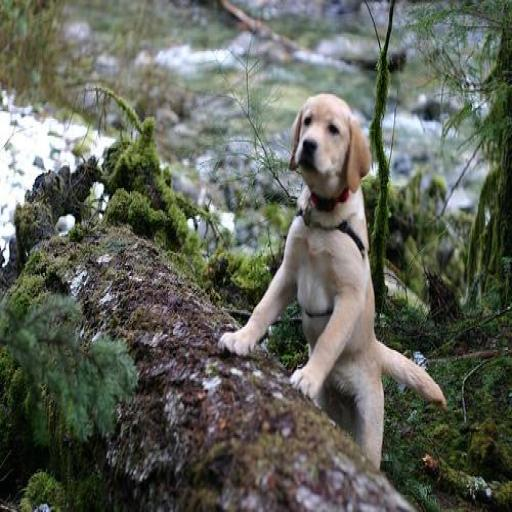dog_face: (290, 92, 363, 189)
